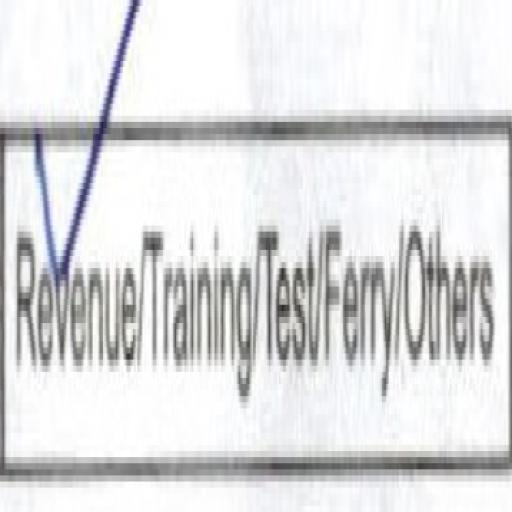check: (2, 42, 144, 512)
